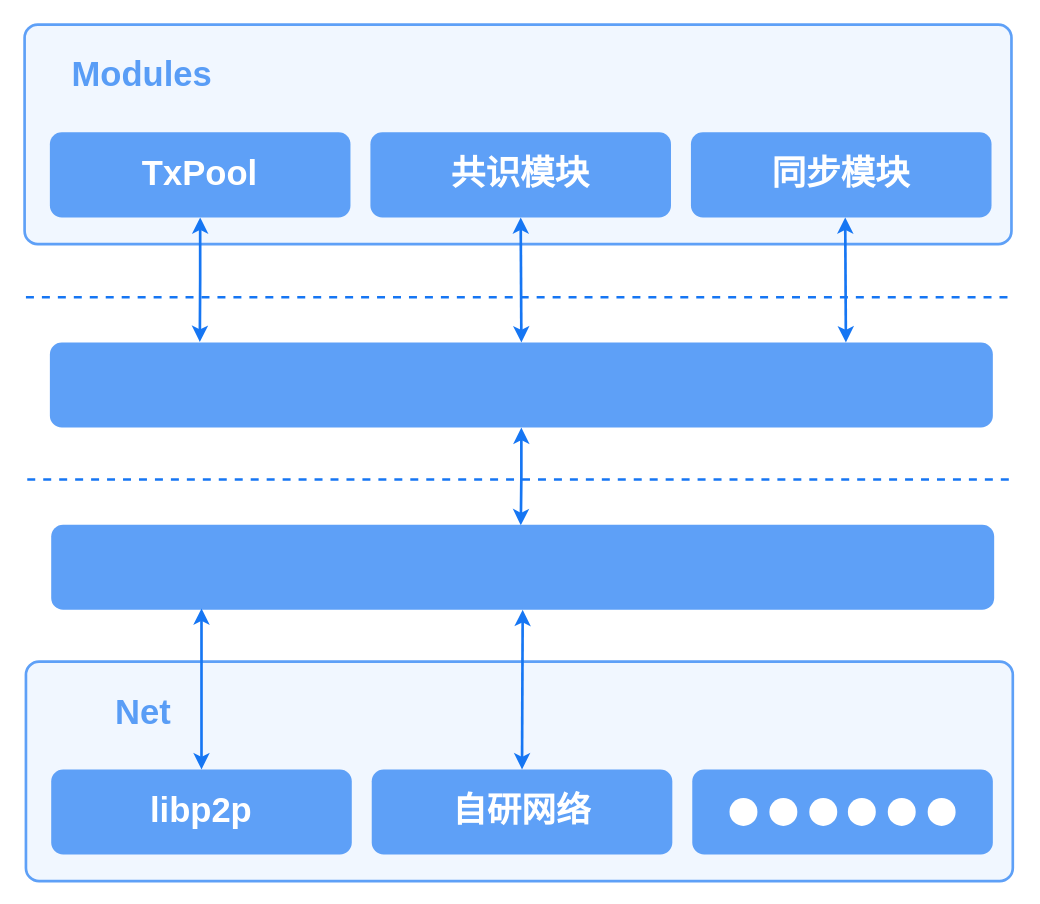
Some shapes in this 1040 by 904 pixel diagram are drawn without their labels. The shapes that lost their labels are listed below. From the top down, each one's box as (x1, y1, x2, y2) in pixels, then its label:
(49, 342, 992, 427): MsgBus
(51, 524, 994, 609): NetService
